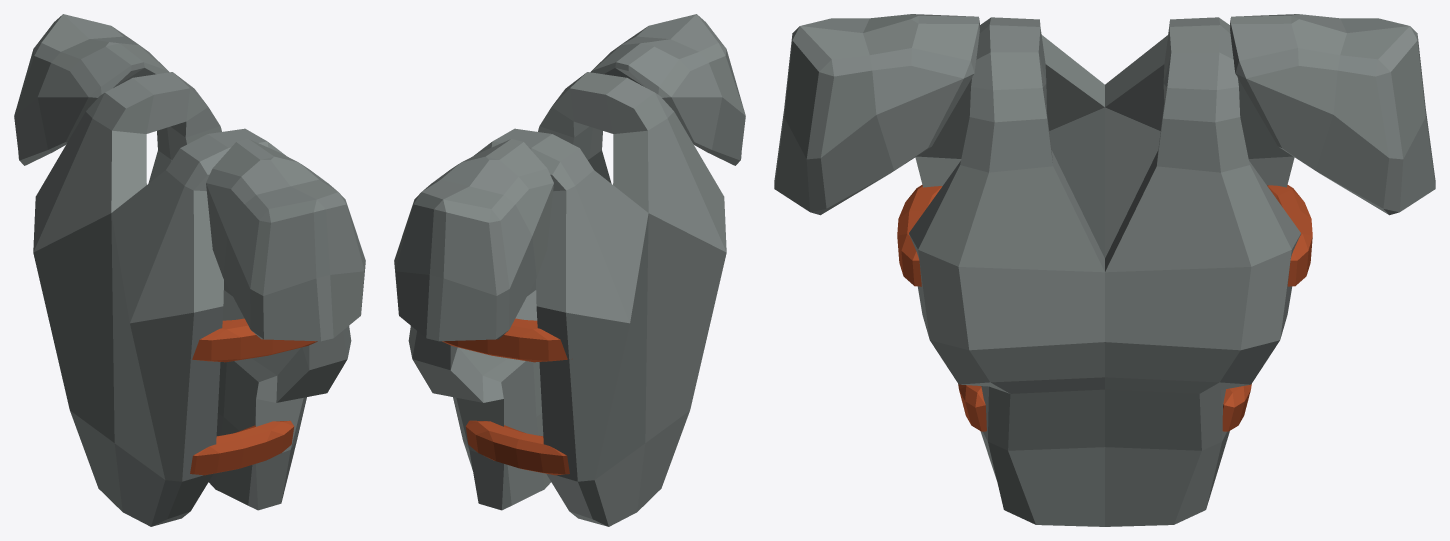
Rendered from armor.fbx.
The picture shows the model from 3 angles, left to right: view 1: azimuth 30°, elevation 25°; view 2: azimuth 150°, elevation 25°; view 3: azimuth 270°, elevation 25°; orthographic projection. The views are drawn at different scales.
Visible parts, largest first — view 1: body, sholderR, sholderL, Cube, Cube.002; view 2: body, sholderL, sholderR, Cube.001, Cube.003; view 3: body, sholderL, sholderR, Cube.003, Cube.002, Cube.001, Cube.
Part boxes in pixels (box(x1,y1,x2,y2)): body: box(33, 72, 351, 526); sholderR: box(206, 139, 365, 341); sholderL: box(14, 14, 169, 165); Cube: box(190, 420, 294, 475); Cube.002: box(192, 318, 317, 362); body: box(408, 72, 726, 526); sholderL: box(394, 139, 553, 341); sholderR: box(590, 14, 745, 165); Cube.001: box(465, 420, 569, 475); Cube.003: box(442, 318, 567, 362); body: box(909, 17, 1300, 526); sholderL: box(1230, 14, 1435, 215); sholderR: box(774, 14, 979, 215); Cube.003: box(1267, 185, 1312, 286); Cube.002: box(897, 185, 942, 286); Cube.001: box(1222, 384, 1251, 431); Cube: box(958, 384, 986, 431).
Size of the model in its own units: 504 by 226 by 401.
